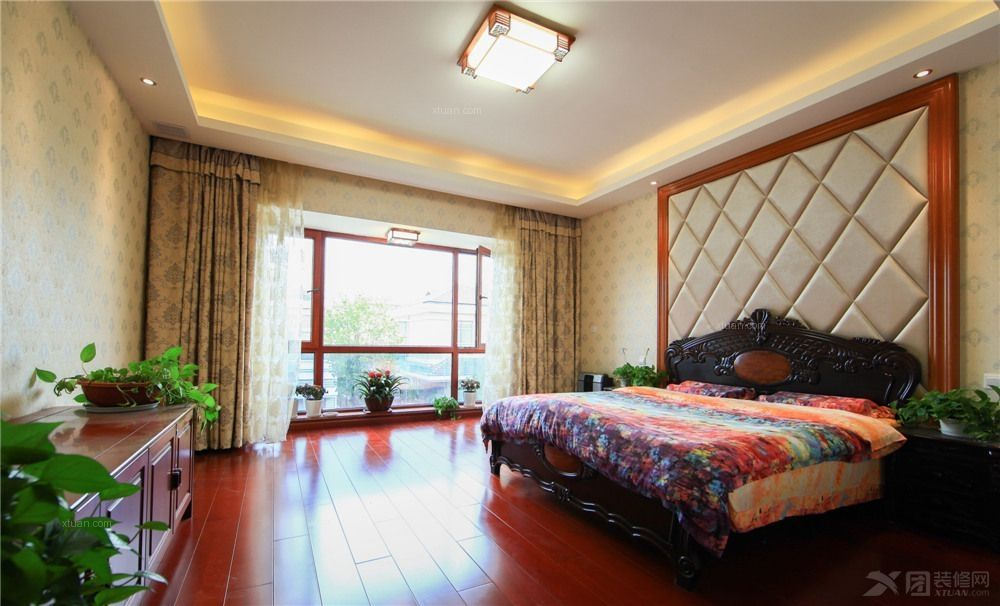床: (496, 384, 911, 569)
枕头: (681, 309, 919, 395)
灯: (452, 10, 577, 99), (915, 68, 942, 81), (137, 76, 157, 91)
